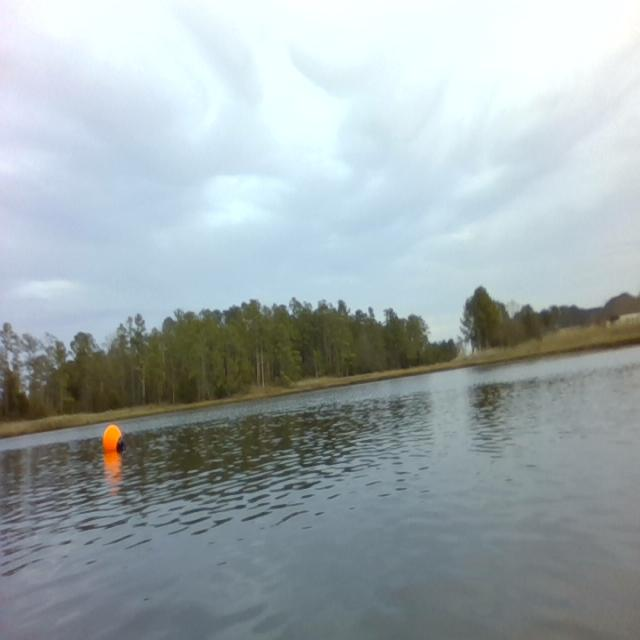Buoy: (99, 418, 127, 462)
